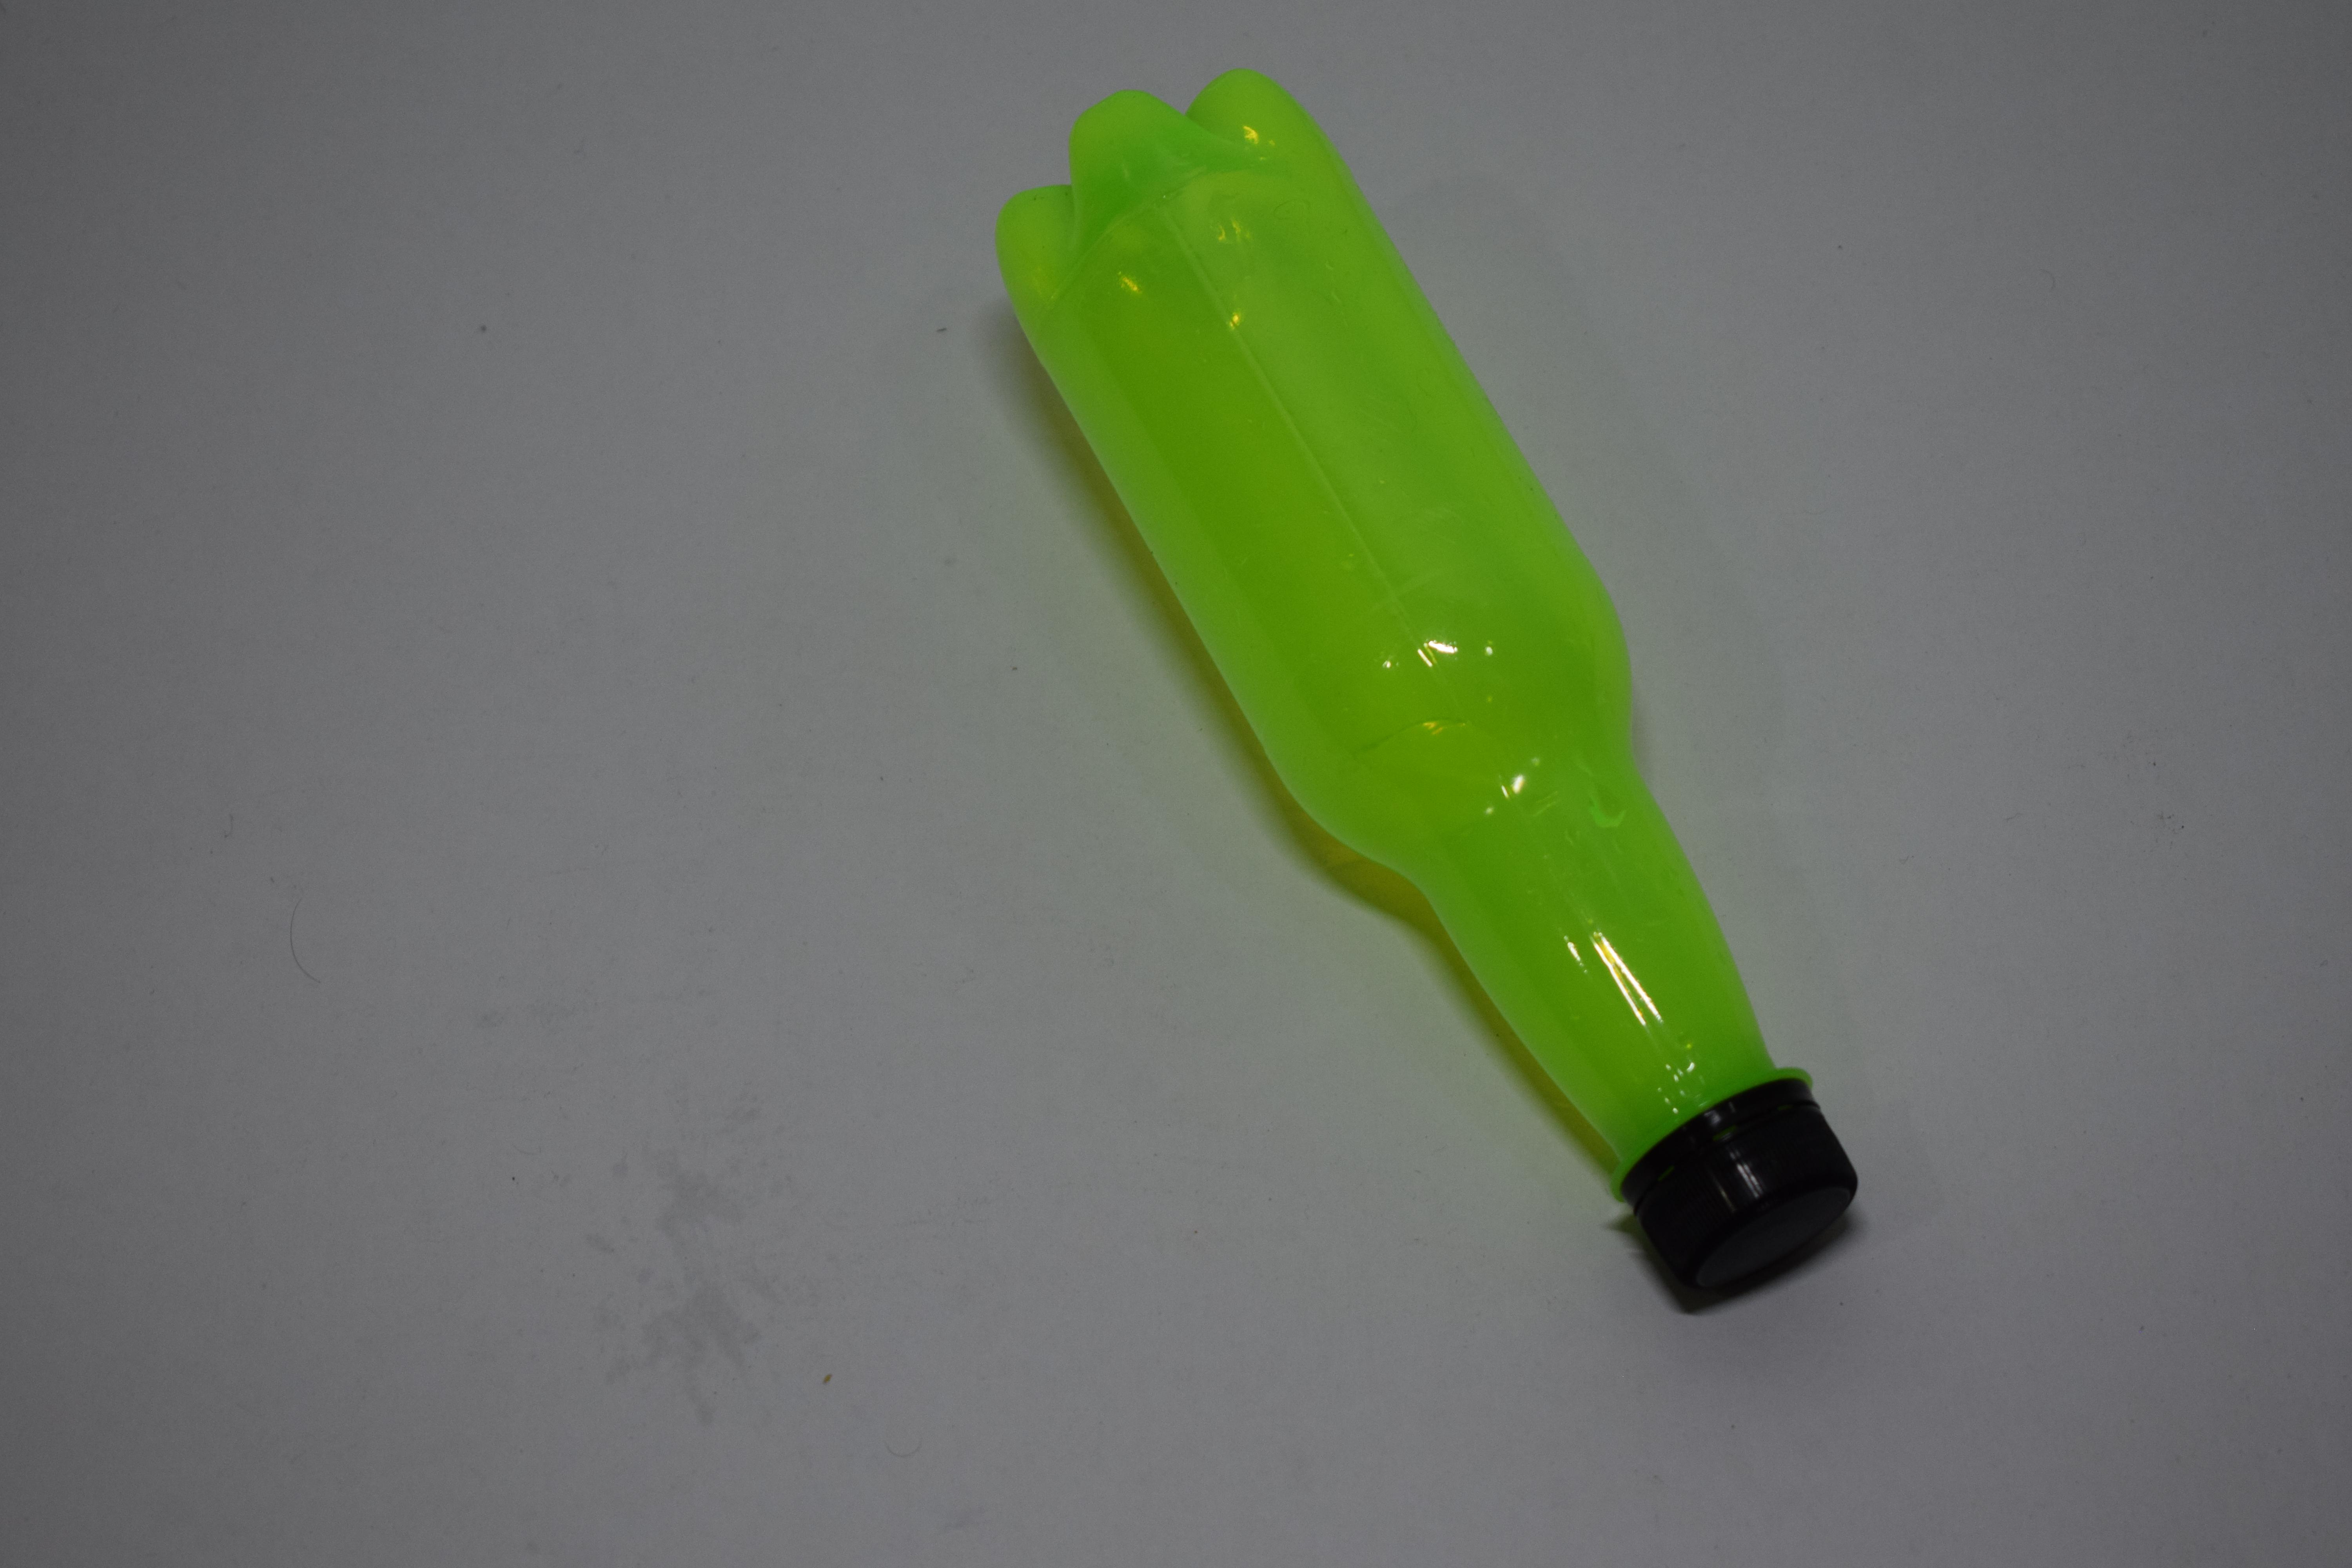bottle: (968, 56, 1858, 1312)
